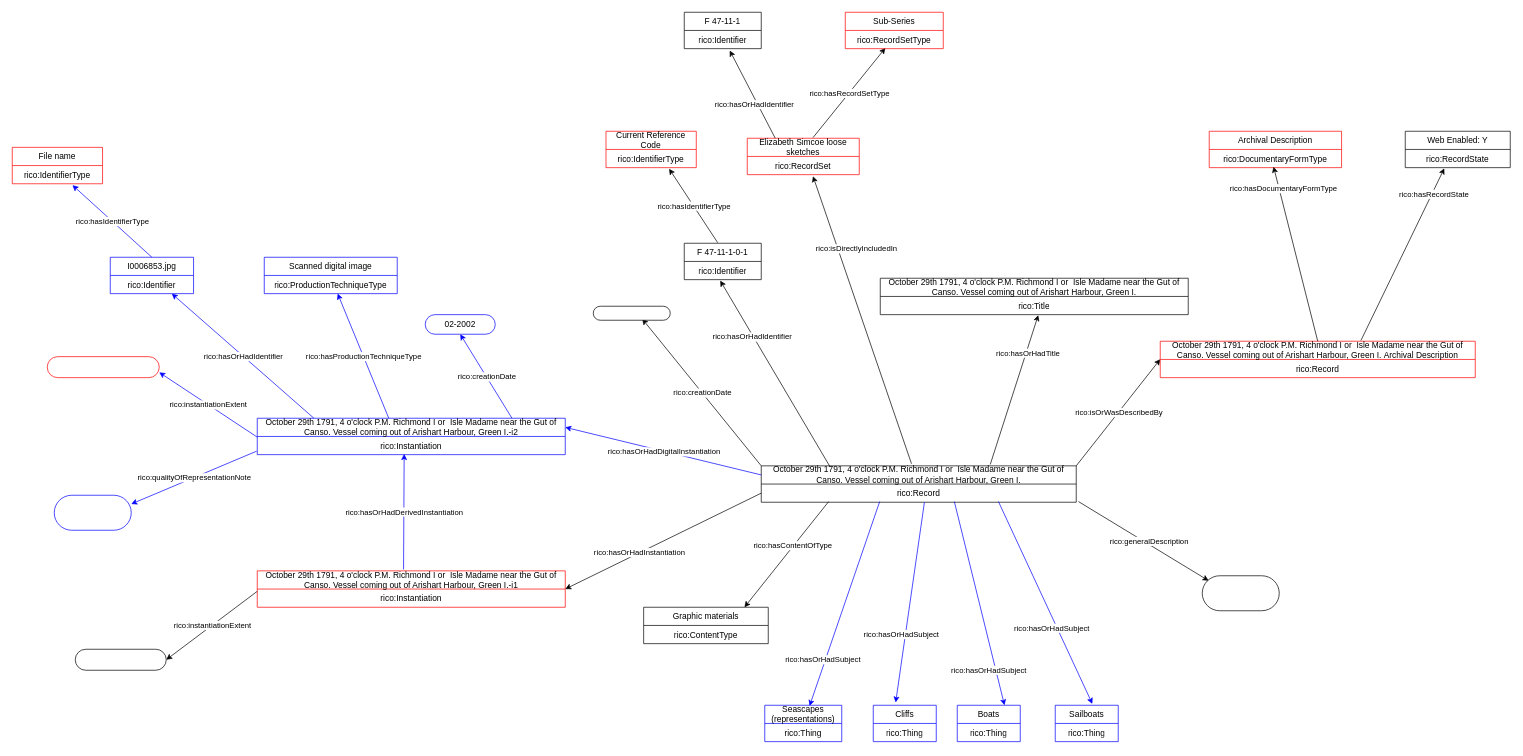
This 1523x756 diagram has some shape labels left out. The centre of each missing label's shape, as x and y in pixels:
1 digital image (66.1 KB) : colour (jpeg): pixel 103 367
1 watercolour on paper: pixel 120 659
Notes: Old Code: 1: pixel 1240 593
Oct. 29, 1791: pixel 631 313
Resolution (DPI): 300: pixel 92 512
